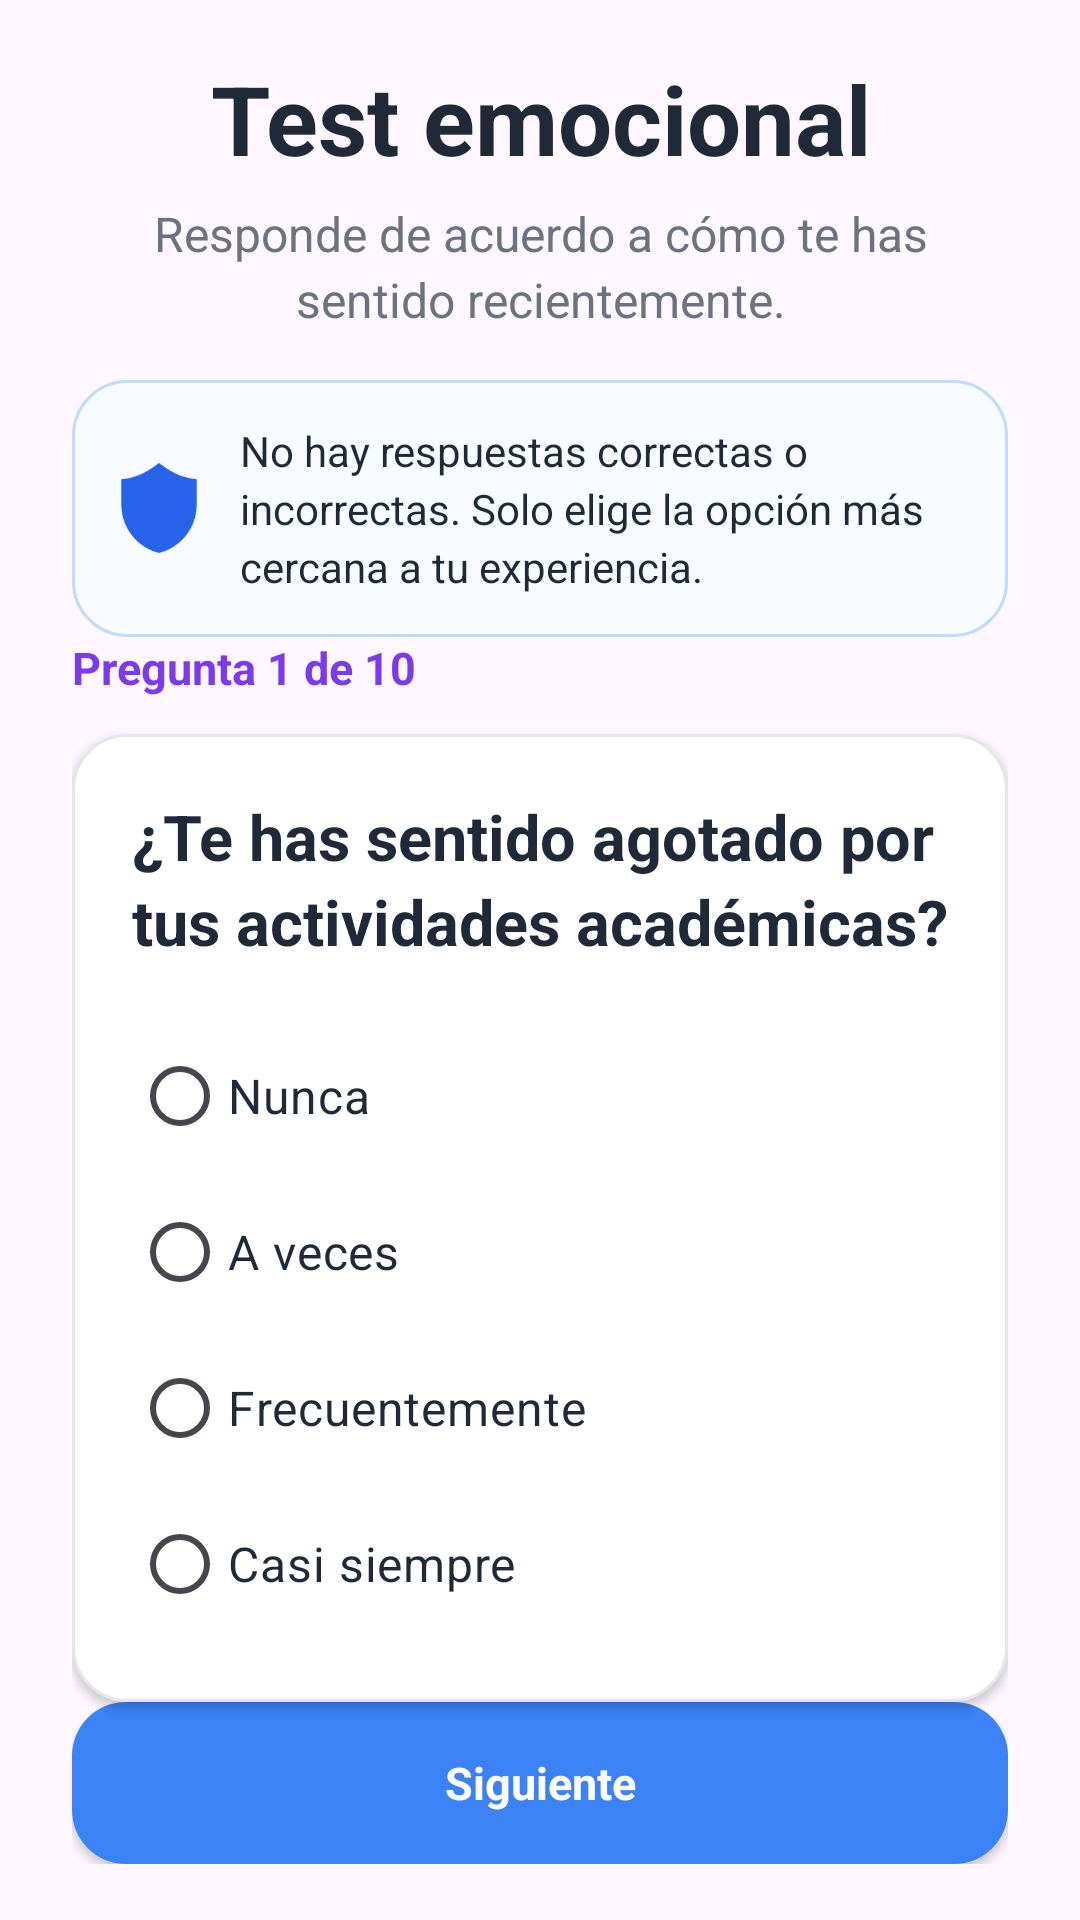

Screen size 1080px x 1920px. Icon name, then its box in pixels as (x1, y1, x2, y2):
proteger: (121, 463, 197, 553)
